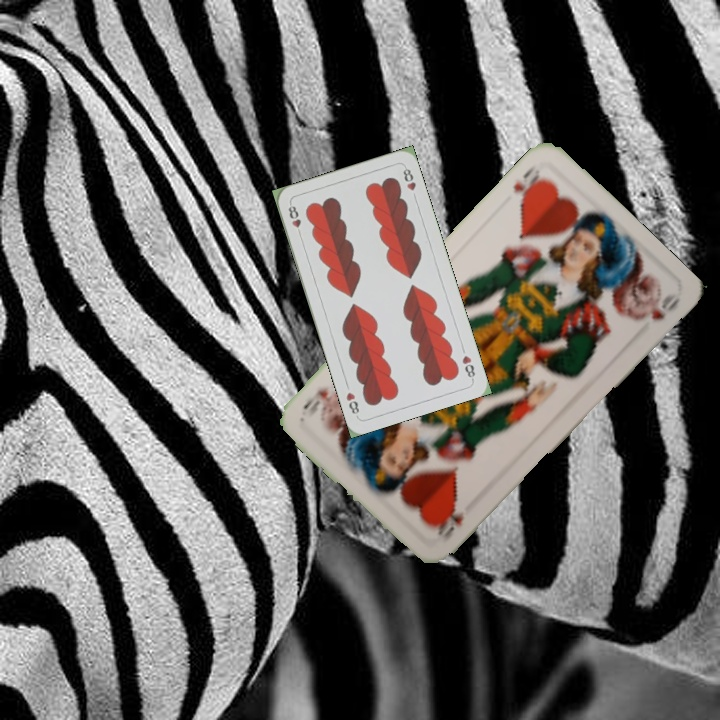H8: (284, 200, 305, 239), (458, 351, 478, 382)
HO: (508, 161, 547, 209), (433, 505, 467, 545)
